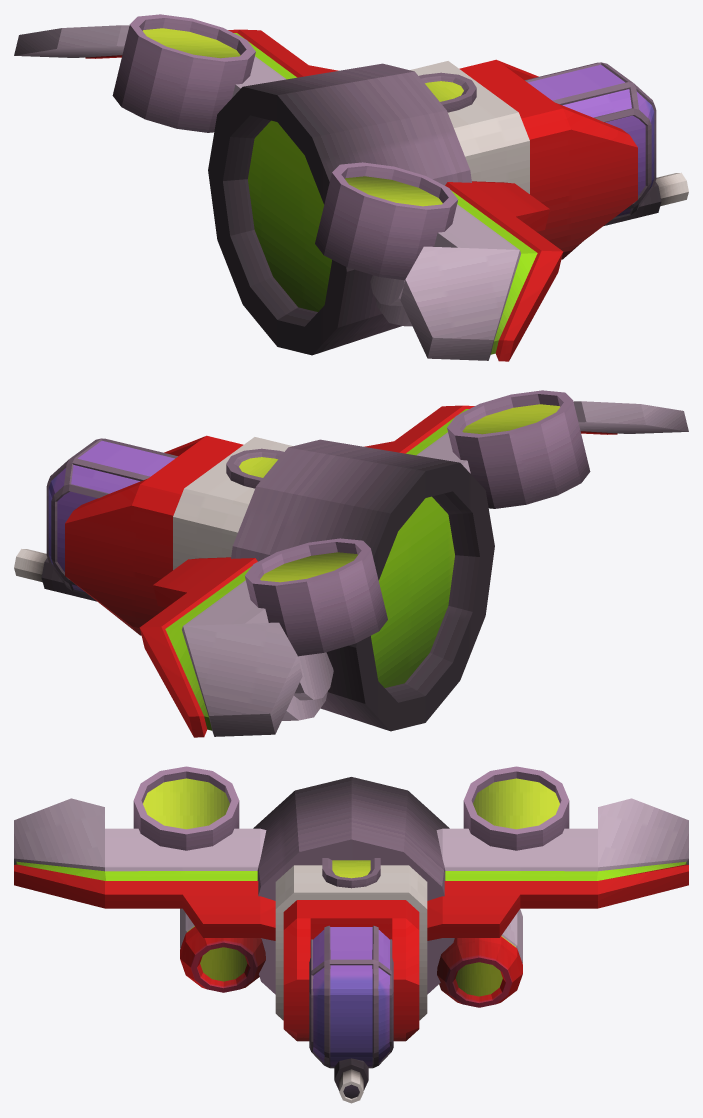
File: SM_Hauler_Level_3.fbx
3 renders of one model, top to bottom at view 1: azimuth 30°, elevation 25°; view 2: azimuth 150°, elevation 25°; view 3: azimuth 270°, elevation 25°, orthographic. The views are drawn at different scales.
Visible parts, largest first — view 1: Hauler_Level_3; view 2: Hauler_Level_3; view 3: Hauler_Level_3.
Boxes of the visible parts, x1=… form: Hauler_Level_3: x1=14, y1=14, x2=688, y2=361; Hauler_Level_3: x1=14, y1=390, x2=688, y2=737; Hauler_Level_3: x1=14, y1=766, x2=688, y2=1103.
Size of the model in its own units: 473 by 247 by 735.
Materials: 1 (1 with a texture image).
